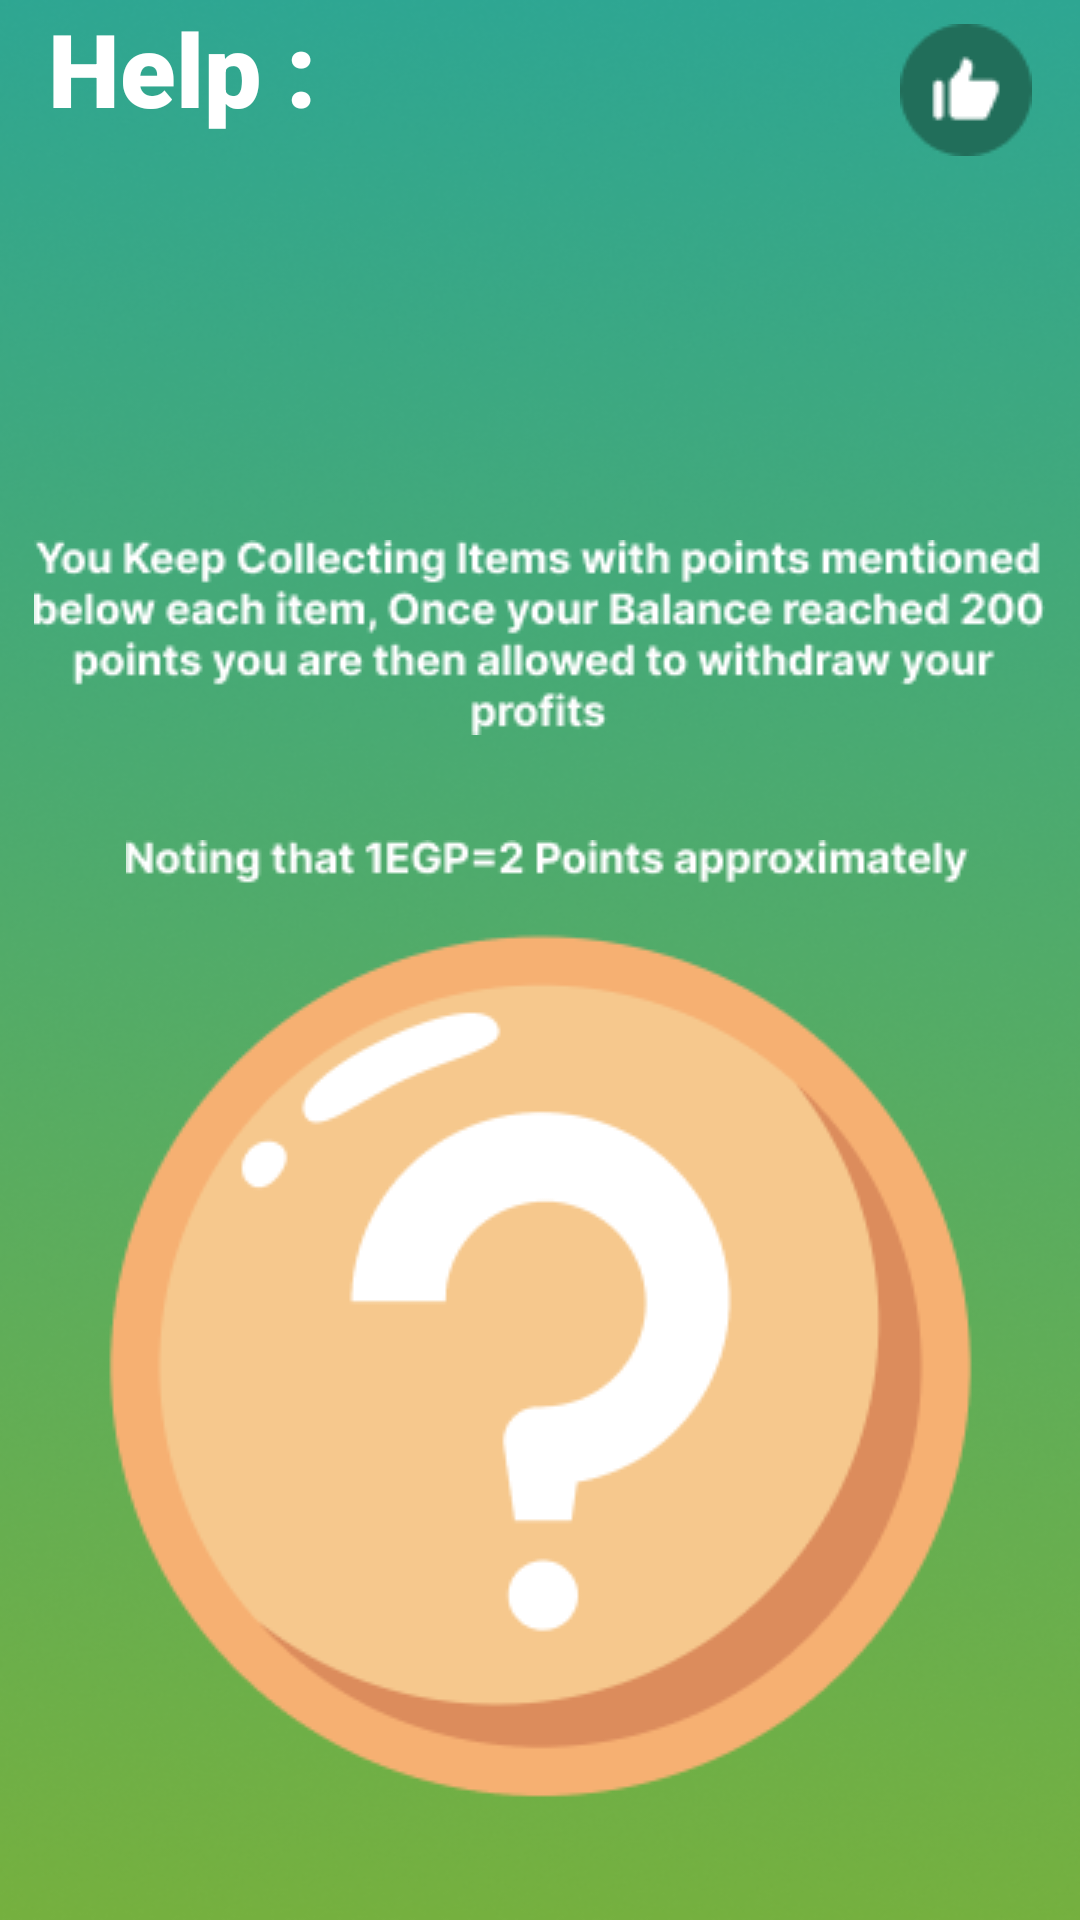

Point at icon controls on the screen. Image size 1080 × 1920, points as (x=x, y=y).
feedicon: (x=966, y=90)
